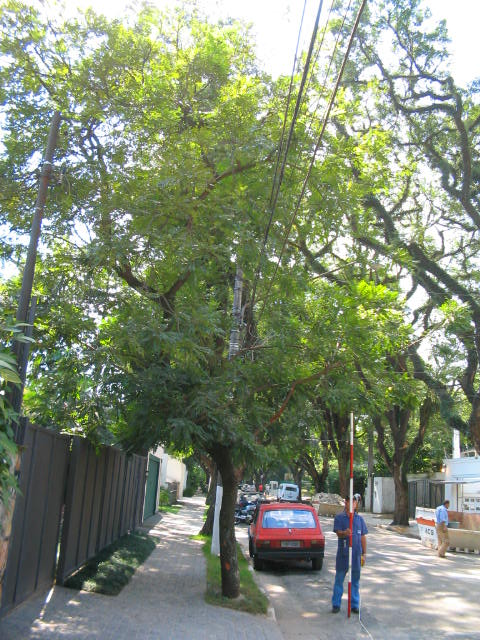crown: (3, 9, 420, 452)
stem: (204, 464, 254, 600)
stick: (345, 411, 360, 618)
tree: (1, 3, 420, 601)
